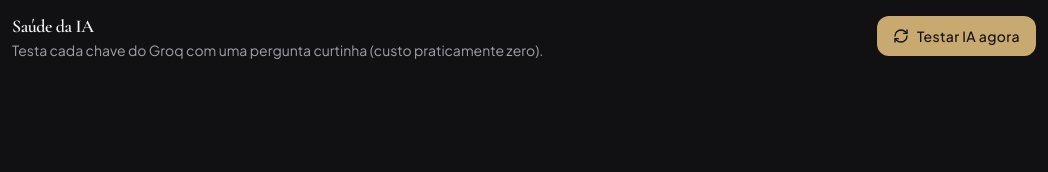
Test case: AiHealthPanel › mostra a mensagem real quando a function falha
Click the button with test id "ai-health-run" at (956, 36), box [877,16,1036,56]
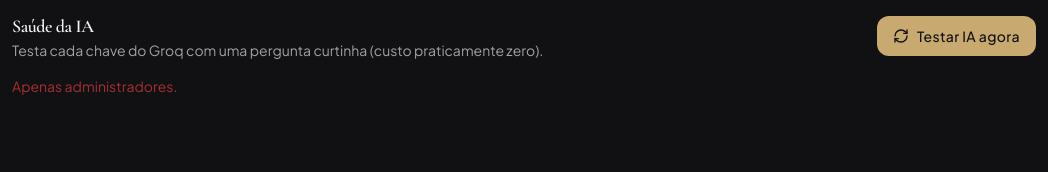
Result: the message with test id "ai-health-error" reads "Apenas administradores." at [12,77,177,95]
